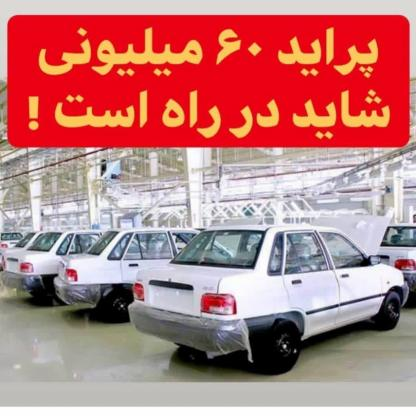Car: (136, 233, 406, 364), (57, 226, 244, 316), (0, 221, 105, 308), (373, 223, 416, 291)
